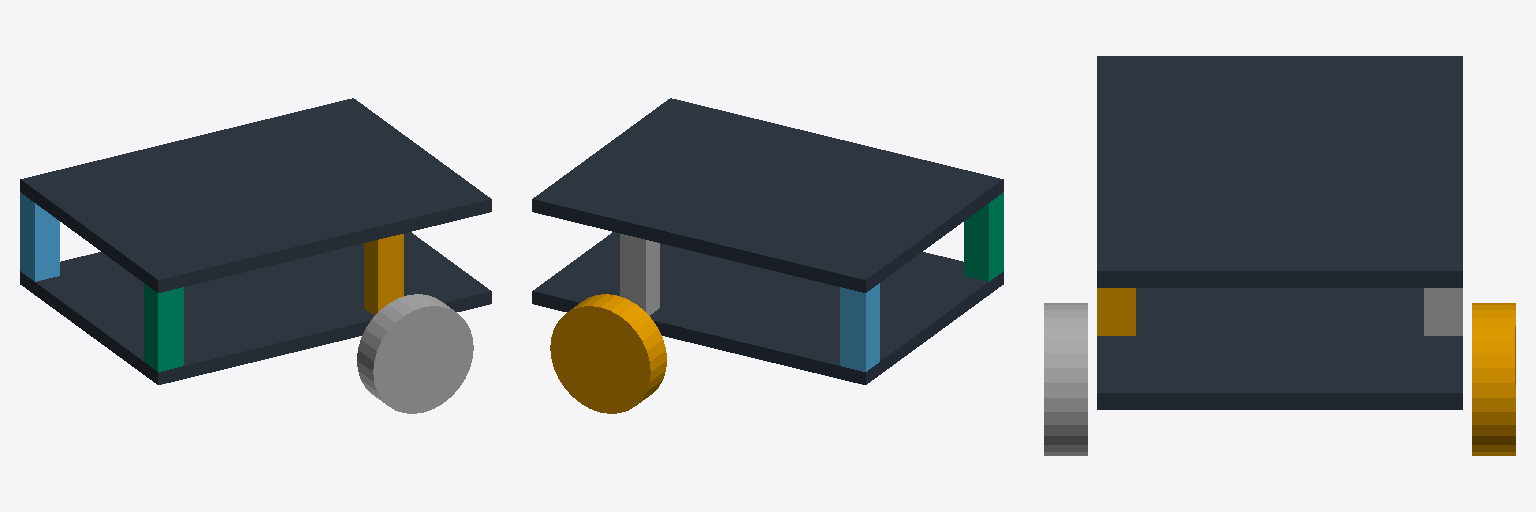
URDF robot description (htb):
<?xml version="1.0" ?>
<!-- =================================================================================== -->
<!-- |    This document was autogenerated by xacro from htb.urdf.xacro                 | -->
<!-- |    EDITING THIS FILE BY HAND IS NOT RECOMMENDED                                 | -->
<!-- =================================================================================== -->
<robot name="htb">
  <material name="black">
    <color rgba="0.0 0.0 0.0 1.0"/>
  </material>
  <material name="blue">
    <color rgba="0.203125 0.23828125 0.28515625 1.0"/>
  </material>
  <material name="green">
    <color rgba="0.0 0.8 0.0 1.0"/>
  </material>
  <material name="grey">
    <color rgba="0.2 0.2 0.2 1.0"/>
  </material>
  <material name="orange">
    <color rgba="1.0 0.423529411765 0.0392156862745 1.0"/>
  </material>
  <material name="brown">
    <color rgba="0.870588235294 0.811764705882 0.764705882353 1.0"/>
  </material>
  <material name="red">
    <color rgba="0.80078125 0.12890625 0.1328125 1.0"/>
  </material>
  <material name="white">
    <color rgba="1.0 1.0 1.0 1.0"/>
  </material>
  <!-- Size of square 'camera' box -->
  <link name="base_link">
    <!-- pose and inertial -->
    <pose>0 0 0.11 0 0 0</pose>
    <inertia>
      <mass value="2"/>
      <origin rpy="0 0 0" xyz="0 0 0.11"/>
      <inertia ixx="0.0395416666667" ixy="0" ixz="0" iyy="0.106208333333" iyz="0" izz="0.106208333333"/>
    </inertia>
    <!-- body -->
    <collision name="collision_chassis">
      <geometry>
        <box size="0.53 0.38 0.02"/>
      </geometry>
    </collision>
    <visual>
      <origin rpy="0 0 0" xyz="0 0 0"/>
      <geometry>
        <box size="0.53 0.38 0.02"/>
      </geometry>
      <material name="blue"/>
    </visual>
  </link>
  <link name="base_footprint">
    <!-- pose and inertial -->
    <pose>0 0 0 0 0 0</pose>
    <inertia>
      <mass value="0.01"/>
      <origin rpy="0 0 0" xyz="0 0 0.11"/>
      <inertia ixx="0.0395416666667" ixy="0" ixz="0" iyy="0.106208333333" iyz="0" izz="0.106208333333"/>
    </inertia>
  </link>
  <!-- base_footrpint joint-->
  <joint name="base_footprint_joint" type="fixed">
    <axis xyz="0 1 0"/>
    <origin rpy="0 0 0" xyz="0 0 -0.11"/>
    <parent link="base_link"/>
    <child link="base_footprint"/>
  </joint>
  <!-- upper joint-->
  <joint name="upper_joint" type="fixed">
    <axis xyz="0 1 0"/>
    <origin rpy="0 0 0" xyz="0 0 0.14"/>
    <parent link="base_link"/>
    <child link="upper_link"/>
  </joint>
  <link name="upper_link">
    <!-- pose and inertial -->
    <pose>0
        0 0.11 0 0 0</pose>
    <inertial>
      <mass value="2"/>
      <origin rpy="0 0 0" xyz="0 0 0.11"/>
      <inertia ixx="0.0395416666667" ixy="0" ixz="0" iyy="0.106208333333" iyz="0" izz="0.106208333333"/>
    </inertial>
    <!-- body -->
    <visual>
      <origin rpy="0 0 0" xyz="0 0 0"/>
      <geometry>
        <box size="0.53 0.38 0.02"/>
      </geometry>
      <material name="blue"/>
    </visual>
  </link>
  <!-- RP-lidar joint-->
  <joint name="rplidar_joint" type="fixed">
    <axis xyz="0 1 0"/>
    <origin rpy="0 0 0" xyz="0.215 0 0.12"/>
    <parent link="base_link"/>
    <child link="rplidar_link"/>
  </joint>
  <!-- RP-lidar link-->
  <link name="rplidar_link">
    <collision>
      <origin rpy="0 0 3.141592653589793" xyz="0 0 -0.06"/>
      <geometry>
        <mesh filename="file:///home/aresuser/ros2_ws/install/htb_description/share/htb_description/meshes/rplidar.dae"/>
      </geometry>
    </collision>
    <visual>
      <origin rpy="0 0 3.141592653589793" xyz="0 0 -0.06"/>
      <geometry>
        <mesh filename="file:///home/aresuser/ros2_ws/install/htb_description/share/htb_description/meshes/rplidar.dae"/>
      </geometry>
      <material name="red"/>
    </visual>
    <inertial>
      <mass value="1e-5"/>
      <origin rpy="0 0 0" xyz="0 0 0"/>
      <inertia ixx="1e-6" ixy="0" ixz="0" iyy="1e-6" iyz="0" izz="1e-6"/>
    </inertial>
  </link>
  <!-- Camera joint-->
  <joint name="camera_joint" type="fixed">
    <axis xyz="0 1 0"/>
    <origin rpy="0 0 0" xyz="0.22 0.08 0.10"/>
    <parent link="base_link"/>
    <child link="realsense_camera"/>
  </joint>
  <!-- Camera link-->
  <link name="realsense_camera">
    <collision>
      <origin rpy="-1.5707963267948966 0 -1.5707963267948966" xyz="0.03 0 0"/>
      <geometry>
        <mesh filename="file:///home/aresuser/ros2_ws/install/htb_description/share/htb_description/meshes/realsense.dae"/>
      </geometry>
    </collision>
    <visual>
      <origin rpy="-1.5707963267948966 0 -1.5707963267948966" xyz="0.03 0 0"/>
      <geometry>
        <mesh filename="file:///home/aresuser/ros2_ws/install/htb_description/share/htb_description/meshes/realsense.dae"/>
      </geometry>
      <material name="red"/>
    </visual>
    <inertial>
      <mass value="1e-5"/>
      <origin rpy="0 0 0" xyz="0 0 0"/>
      <inertia ixx="1e-6" ixy="0" ixz="0" iyy="1e-6" iyz="0" izz="1e-6"/>
    </inertial>
  </link>
  <!-- generate an optical frame http://www.ros.org/reps/rep-0103.html#suffix-frames
        so
    that
      ros and opencv can operate on the camera frame correctly -->
  <joint name="camera_optical_joint" type="fixed">
    <!-- these values have to be these values otherwise the gazebo camera image
          won't be
      aligned properly with the frame it is supposedly originating from -->
    <origin rpy="-1.5707963267948966 0 -1.5707963267948966" xyz="0 0 0"/>
    <parent link="realsense_camera"/>
    <child link="realsense_link_optical"/>
  </joint>
  <link name="realsense_link_optical">
    </link>
  <joint name="realsense_mountpoint_joint" type="fixed">
    <origin rpy="0 0 0" xyz="0 0 0"/>
    <parent link="realsense_link_optical"/>
    <child link="realsense_mount_point"/>
  </joint>
  <link name="realsense_mount_point">
    </link>
  <!-- -->
  <gazebo reference="base_link">
    <material>Gazebo/Orange</material>
  </gazebo>
  <gazebo reference="upper_link">
    <material>Gazebo/Orange</material>
  </gazebo>
  <gazebo reference="right_wheel">
    <material>Gazebo/Grey</material>
  </gazebo>
  <link name="right_wheel">
    <inertial>
      <mass value="0.5"/>
      <origin rpy="0 1.5707 1.5707" xyz="0 0 0"/>
      <inertia ixx="0.000526666666667" ixy="0" ixz="0" iyy="0.000526666666667" iyz="0" izz="0.001"/>
    </inertial>
    <collision name="link_right_wheel_collision">
      <origin rpy="0 1.5707 1.5707" xyz="0 0 0"/>
      <geometry>
        <cylinder length="0.045" radius="0.08"/>
      </geometry>
    </collision>
    <visual name="right_wheel_visual">
      <origin rpy="0 1.5707 1.5707" xyz="0 0 0"/>
      <geometry>
        <cylinder length="0.045" radius="0.08"/>
      </geometry>
    </visual>
  </link>
  <joint name="right_wheel_joint" type="continuous">
    <origin rpy="0 0 0" xyz="0.125 -0.2225 -0.04"/>
    <child link="right_wheel"/>
    <parent link="base_link"/>
    <axis rpy="0 0 0" xyz="0 1 0"/>
    <dynamics damping="0.2"/>
  </joint>
  <gazebo reference="left_wheel">
    <material>Gazebo/Grey</material>
  </gazebo>
  <link name="left_wheel">
    <inertial>
      <mass value="0.5"/>
      <origin rpy="0 1.5707 1.5707" xyz="0 0 0"/>
      <inertia ixx="0.000526666666667" ixy="0" ixz="0" iyy="0.000526666666667" iyz="0" izz="0.001"/>
    </inertial>
    <collision name="link_left_wheel_collision">
      <origin rpy="0 1.5707 1.5707" xyz="0 0 0"/>
      <geometry>
        <cylinder length="0.045" radius="0.08"/>
      </geometry>
    </collision>
    <visual name="left_wheel_visual">
      <origin rpy="0 1.5707 1.5707" xyz="0 0 0"/>
      <geometry>
        <cylinder length="0.045" radius="0.08"/>
      </geometry>
    </visual>
  </link>
  <joint name="left_wheel_joint" type="continuous">
    <origin rpy="0 0 0" xyz="0.125 0.2225 -0.04"/>
    <child link="left_wheel"/>
    <parent link="base_link"/>
    <axis rpy="0 0 0" xyz="0 1 0"/>
    <dynamics damping="0.2"/>
  </joint>
  <!-- Caster -->
  <gazebo reference="caster_l_swivel">
    <material>Gazebo/Black</material>
  </gazebo>
  <joint name="base_caster_l_swivel_joint" type="continuous">
    <origin rpy=" 0 0 0" xyz="-0.185 0.11 -0.06"/>
    <anchor xyz="0 0 0"/>
    <limit effort="100" k_velocity="0" velocity="100"/>
    <joint_properties damping="0.0" friction="0.0"/>
    <parent link="base_link"/>
    <axis rpy="0 0 0" xyz="0 0 1"/>
    <child link="caster_l_swivel"/>
  </joint>
  <link name="caster_l_swivel">
    <inertial>
      <mass value="0.1"/>
      <origin xyz="0 0 0"/>
      <inertia ixx="0.01" ixy="0" ixz="0" iyy="0.01" iyz="0" izz="0.01"/>
    </inertial>
    <visual>
      <origin rpy="0 0 0" xyz="0 0 0"/>
      <geometry name="base_link">
        <mesh filename="file:///home/aresuser/ros2_ws/install/htb_description/share/htb_description/meshes/caster_swivel.stl"/>
      </geometry>
      <material name="blue"/>
    </visual>
  </link>
  <gazebo reference="caster_l_hubcap">
    <material>Gazebo/Grey</material>
  </gazebo>
  <!-- Center Wheel + Hubcap -->
  <link name="caster_l_hubcap">
    <inertial>
      <mass value="0.01"/>
      <origin xyz="0 0 0"/>
      <inertia ixx="0.012411765597" ixy="-0.000711733678" ixz="0.00050272983" iyy="0.015218160428" iyz="-0.000004273467" izz="0.011763977943"/>
    </inertial>
    <visual>
      <origin rpy="0 0 0" xyz="0 0 0"/>
      <geometry name="base_link">
        <mesh filename="file:///home/aresuser/ros2_ws/install/htb_description/share/htb_description/meshes/caster_hubcap.stl"/>
      </geometry>
      <material name="blue"/>
    </visual>
  </link>
  <joint name="caster_l_swivel_hubcap_joint" type="continuous">
    <origin rpy="0 0 0" xyz="-0.026 0 -0.016"/>
    <axis xyz="0 1 0"/>
    <anchor xyz="0 0 0"/>
    <limit effort="100" k_velocity="0" velocity="100"/>
    <joint_properties damping="0.0" friction="0.0"/>
    <parent link="caster_l_swivel"/>
    <child link="caster_l_wheel"/>
  </joint>
  <gazebo reference="caster_l_wheel">
    <material>Gazebo/Black</material>
  </gazebo>
  <link name="caster_l_wheel">
    <inertial>
      <mass value="0.1"/>
      <origin xyz="0 0 0"/>
      <inertia ixx="0.012411765597" ixy="-0.000711733678" ixz="0.00050272983" iyy="0.015218160428" iyz="-0.000004273467" izz="0.011763977943"/>
    </inertial>
    <visual>
      <origin rpy="0 0 0" xyz="0 0 0"/>
      <geometry name="base_link">
        <mesh filename="file:///home/aresuser/ros2_ws/install/htb_description/share/htb_description/meshes/caster_wheel.stl"/>
      </geometry>
      <material name="WheelBlack">
        <color rgba="0.117 0.117 0.117 1"/>
      </material>
    </visual>
    <collision>
      <origin rpy="0 0 0" xyz="0 0 0"/>
      <geometry>
        <mesh filename="file:///home/aresuser/ros2_ws/install/htb_description/share/htb_description/meshes/caster_wheel.stl"/>
        <cylinder length="0.01" radius="0.0375"/>
      </geometry>
      <surface>
        <friction>
          <ode>
            <mu>0.01</mu>
            <mu2>0.1</mu2>
            <slip1>1.0</slip1>
            <slip2>1.0</slip2>
          </ode>
        </friction>
      </surface>
    </collision>
  </link>
  <joint name="caster_l_wheel_joint" type="fixed">
    <origin rpy="0 0 0" xyz="-0.0035 0 -0.001"/>
    <parent link="caster_l_wheel"/>
    <child link="caster_l_hubcap"/>
  </joint>
  <!-- Caster -->
  <gazebo reference="caster_r_swivel">
    <material>Gazebo/Black</material>
  </gazebo>
  <joint name="base_caster_r_swivel_joint" type="continuous">
    <origin rpy=" 0 0 0" xyz="-0.185 -0.11 -0.06"/>
    <anchor xyz="0 0 0"/>
    <limit effort="100" k_velocity="0" velocity="100"/>
    <joint_properties damping="0.0" friction="0.0"/>
    <parent link="base_link"/>
    <axis rpy="0 0 0" xyz="0 0 1"/>
    <child link="caster_r_swivel"/>
  </joint>
  <link name="caster_r_swivel">
    <inertial>
      <mass value="0.1"/>
      <origin xyz="0 0 0"/>
      <inertia ixx="0.01" ixy="0" ixz="0" iyy="0.01" iyz="0" izz="0.01"/>
    </inertial>
    <visual>
      <origin rpy="0 0 0" xyz="0 0 0"/>
      <geometry name="base_link">
        <mesh filename="file:///home/aresuser/ros2_ws/install/htb_description/share/htb_description/meshes/caster_swivel.stl"/>
      </geometry>
      <material name="blue"/>
    </visual>
  </link>
  <gazebo reference="caster_r_hubcap">
    <material>Gazebo/Grey</material>
  </gazebo>
  <!-- Center Wheel + Hubcap -->
  <link name="caster_r_hubcap">
    <inertial>
      <mass value="0.01"/>
      <origin xyz="0 0 0"/>
      <inertia ixx="0.012411765597" ixy="-0.000711733678" ixz="0.00050272983" iyy="0.015218160428" iyz="-0.000004273467" izz="0.011763977943"/>
    </inertial>
    <visual>
      <origin rpy="0 0 0" xyz="0 0 0"/>
      <geometry name="base_link">
        <mesh filename="file:///home/aresuser/ros2_ws/install/htb_description/share/htb_description/meshes/caster_hubcap.stl"/>
      </geometry>
      <material name="blue"/>
    </visual>
  </link>
  <joint name="caster_r_swivel_hubcap_joint" type="continuous">
    <origin rpy="0 0 0" xyz="-0.026 0 -0.016"/>
    <axis xyz="0 1 0"/>
    <anchor xyz="0 0 0"/>
    <limit effort="100" k_velocity="0" velocity="100"/>
    <joint_properties damping="0.0" friction="0.0"/>
    <parent link="caster_r_swivel"/>
    <child link="caster_r_wheel"/>
  </joint>
  <gazebo reference="caster_r_wheel">
    <material>Gazebo/Black</material>
  </gazebo>
  <link name="caster_r_wheel">
    <inertial>
      <mass value="0.1"/>
      <origin xyz="0 0 0"/>
      <inertia ixx="0.012411765597" ixy="-0.000711733678" ixz="0.00050272983" iyy="0.015218160428" iyz="-0.000004273467" izz="0.011763977943"/>
    </inertial>
    <visual>
      <origin rpy="0 0 0" xyz="0 0 0"/>
      <geometry name="base_link">
        <mesh filename="file:///home/aresuser/ros2_ws/install/htb_description/share/htb_description/meshes/caster_wheel.stl"/>
      </geometry>
      <material name="WheelBlack">
        <color rgba="0.117 0.117 0.117 1"/>
      </material>
    </visual>
    <collision>
      <origin rpy="0 0 0" xyz="0 0 0"/>
      <geometry>
        <mesh filename="file:///home/aresuser/ros2_ws/install/htb_description/share/htb_description/meshes/caster_wheel.stl"/>
        <cylinder length="0.01" radius="0.0375"/>
      </geometry>
      <surface>
        <friction>
          <ode>
            <mu>0.01</mu>
            <mu2>0.1</mu2>
            <slip1>1.0</slip1>
            <slip2>1.0</slip2>
          </ode>
        </friction>
      </surface>
    </collision>
  </link>
  <joint name="caster_r_wheel_joint" type="fixed">
    <origin rpy="0 0 0" xyz="-0.0035 0 -0.001"/>
    <parent link="caster_r_wheel"/>
    <child link="caster_r_hubcap"/>
  </joint>
  <gazebo reference="support_1">
    <material>Gazebo/Black</material>
  </gazebo>
  <link name="support_1">
    <inertial>
      <mass value="0.1"/>
      <origin rpy="0 0 0" xyz="0 0 0"/>
      <inertia ixx="0.000526666666667" ixy="0" ixz="0" iyy="0.000526666666667" iyz="0" izz="0.001"/>
    </inertial>
    <collision name="vertical_support_1_collision">
      <origin rpy="0 0 0" xyz="0 0 0"/>
      <geometry>
        <box size="0.04 0.04 0.12"/>
      </geometry>
    </collision>
    <visual name="support_1_visual">
      <origin rpy="0 0 0" xyz="0 0 0"/>
      <geometry>
        <box size="0.04 0.04 0.12"/>
      </geometry>
    </visual>
  </link>
  <joint name="support_1_joint" type="fixed">
    <axis xyz="0 0 1"/>
    <origin rpy="0 0 0" xyz="0.105 0.17 0.07"/>
    <parent link="base_link"/>
    <child link="support_1"/>
  </joint>
  <gazebo reference="support_2">
    <material>Gazebo/Black</material>
  </gazebo>
  <link name="support_2">
    <inertial>
      <mass value="0.1"/>
      <origin rpy="0 0 0" xyz="0 0 0"/>
      <inertia ixx="0.000526666666667" ixy="0" ixz="0" iyy="0.000526666666667" iyz="0" izz="0.001"/>
    </inertial>
    <collision name="vertical_support_2_collision">
      <origin rpy="0 0 0" xyz="0 0 0"/>
      <geometry>
        <box size="0.04 0.04 0.12"/>
      </geometry>
    </collision>
    <visual name="support_2_visual">
      <origin rpy="0 0 0" xyz="0 0 0"/>
      <geometry>
        <box size="0.04 0.04 0.12"/>
      </geometry>
    </visual>
  </link>
  <joint name="support_2_joint" type="fixed">
    <axis xyz="0 0 1"/>
    <origin rpy="0 0 0" xyz="0.105 -0.17 0.07"/>
    <parent link="base_link"/>
    <child link="support_2"/>
  </joint>
  <gazebo reference="support_3">
    <material>Gazebo/Black</material>
  </gazebo>
  <link name="support_3">
    <inertial>
      <mass value="0.1"/>
      <origin rpy="0 0 0" xyz="0 0 0"/>
      <inertia ixx="0.000526666666667" ixy="0" ixz="0" iyy="0.000526666666667" iyz="0" izz="0.001"/>
    </inertial>
    <collision name="vertical_support_3_collision">
      <origin rpy="0 0 0" xyz="0 0 0"/>
      <geometry>
        <box size="0.04 0.04 0.12"/>
      </geometry>
    </collision>
    <visual name="support_3_visual">
      <origin rpy="0 0 0" xyz="0 0 0"/>
      <geometry>
        <box size="0.04 0.04 0.12"/>
      </geometry>
    </visual>
  </link>
  <joint name="support_3_joint" type="fixed">
    <axis xyz="0 0 1"/>
    <origin rpy="0 0 0" xyz="-0.245 0.17 0.07"/>
    <parent link="base_link"/>
    <child link="support_3"/>
  </joint>
  <gazebo reference="support_4">
    <material>Gazebo/Black</material>
  </gazebo>
  <link name="support_4">
    <inertial>
      <mass value="0.1"/>
      <origin rpy="0 0 0" xyz="0 0 0"/>
      <inertia ixx="0.000526666666667" ixy="0" ixz="0" iyy="0.000526666666667" iyz="0" izz="0.001"/>
    </inertial>
    <collision name="vertical_support_4_collision">
      <origin rpy="0 0 0" xyz="0 0 0"/>
      <geometry>
        <box size="0.04 0.04 0.12"/>
      </geometry>
    </collision>
    <visual name="support_4_visual">
      <origin rpy="0 0 0" xyz="0 0 0"/>
      <geometry>
        <box size="0.04 0.04 0.12"/>
      </geometry>
    </visual>
  </link>
  <joint name="support_4_joint" type="fixed">
    <axis xyz="0 0 1"/>
    <origin rpy="0 0 0" xyz="-0.245 -0.17 0.07"/>
    <parent link="base_link"/>
    <child link="support_4"/>
  </joint>
  <ros2_control name="wheels" type="system">
    <hardware>
      <plugin>htb_hardware_interfaces/HtbSystem</plugin>
      <param name="left_wheel_name">left_wheel_joint</param>
      <param name="right_wheel_name">right_wheel_joint</param>
      <param name="left_wheel_radius">0.08</param>
      <param name="right_wheel_radius">0.08</param>
      <param name="loop_rate">30</param>
      <param name="device">/dev/htb_driver</param>
      <param name="baud_rate">57600</param>
      <param name="timeout_ms">1000</param>
      <param name="enc_counts_per_rev">90</param>
      <param name="inverted">0</param>
      <param name="pid_p">20</param>
      <param name="pid_d">12</param>
      <param name="pid_i">0</param>
      <param name="pid_o">50</param>
    </hardware>
    <joint name="left_wheel_joint">
      <command_interface name="velocity"/>
      <state_interface name="position"/>
      <state_interface name="velocity"/>
    </joint>
    <joint name="right_wheel_joint">
      <command_interface name="velocity"/>
      <state_interface name="position"/>
      <state_interface name="velocity"/>
    </joint>
  </ros2_control>
</robot>

--- Facts derived from the render (not from the file) ---
3 views of the same robot in one strip: view 1: azimuth 30°, elevation 25°; view 2: azimuth 150°, elevation 25°; view 3: azimuth 270°, elevation 25° (orthographic).
Robot: htb — 19 links, 18 joints (6 continuous, 12 fixed); root link base_link; default pose: every joint at zero.
Visible links, largest first — view 1: upper_link, base_link, right_wheel, support_4, support_3, support_2; view 2: upper_link, base_link, left_wheel, support_3, support_4, support_1; view 3: upper_link, base_link, right_wheel, left_wheel, support_1, support_2.
Link boxes in pixels (bbox=[...]): upper_link: bbox=[20, 98, 491, 292]; base_link: bbox=[20, 232, 491, 384]; right_wheel: bbox=[357, 294, 473, 413]; support_4: bbox=[144, 283, 183, 371]; support_3: bbox=[20, 192, 59, 281]; support_2: bbox=[364, 234, 403, 315]; upper_link: bbox=[532, 98, 1003, 292]; base_link: bbox=[532, 232, 1003, 384]; left_wheel: bbox=[550, 294, 666, 413]; support_3: bbox=[840, 283, 879, 371]; support_4: bbox=[964, 192, 1003, 281]; support_1: bbox=[620, 234, 659, 315]; upper_link: bbox=[1097, 56, 1462, 287]; base_link: bbox=[1097, 288, 1462, 409]; right_wheel: bbox=[1044, 303, 1087, 455]; left_wheel: bbox=[1472, 303, 1515, 455]; support_1: bbox=[1424, 288, 1462, 335]; support_2: bbox=[1097, 288, 1135, 335].
Bounding box of the posed robot: 0.53 × 0.49 × 0.27 m (x, y, z).
Geometry: only primitive shapes (box / cylinder / sphere) drawn; not drawn: 8 mesh visuals (reference in a form the renderer does not follow).
